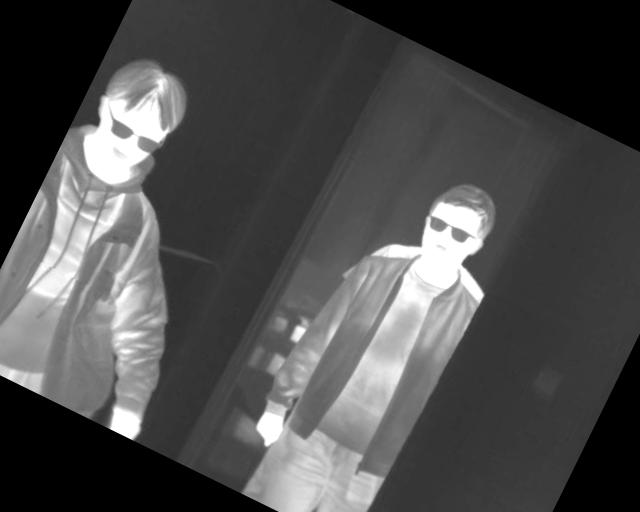face: (74, 45, 200, 185), (405, 174, 504, 285)
